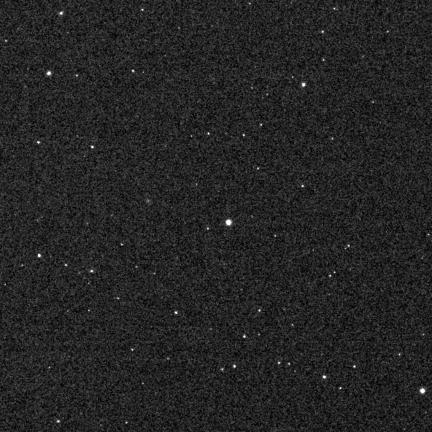blob: (226, 219, 232, 225), (420, 388, 425, 394), (46, 71, 52, 76), (302, 82, 306, 87), (233, 365, 236, 368), (38, 254, 41, 257), (323, 376, 326, 379)
